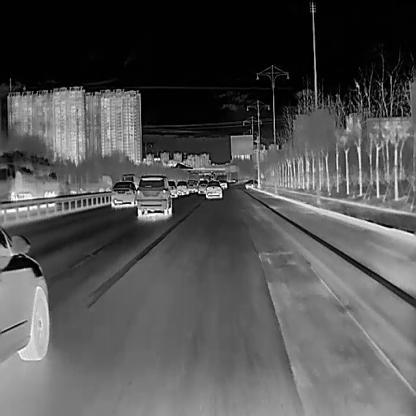car: (0, 225, 49, 363), (0, 151, 59, 212), (136, 174, 170, 215), (109, 180, 135, 208), (205, 182, 222, 198), (175, 180, 188, 195), (168, 180, 177, 197), (197, 180, 207, 193), (187, 179, 197, 192)
